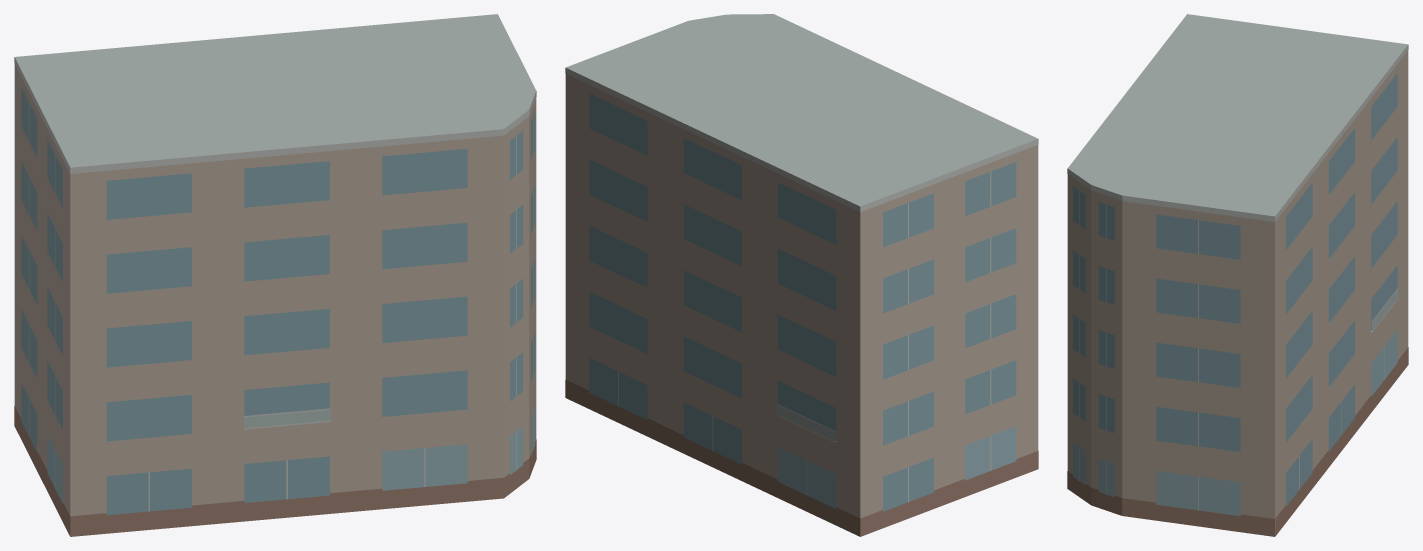
File: survey-upis-32729970.glb
3 renders of one model, left to right at view 1: azimuth 30°, elevation 25°; view 2: azimuth 150°, elevation 25°; view 3: azimuth 270°, elevation 25°, orthographic. The views are drawn at different scales.
Visible parts, largest first — view 1: survey-upis-32729970.tmp; view 2: survey-upis-32729970.tmp; view 3: survey-upis-32729970.tmp.
Part boxes in pixels (x1,y1,x2,y2): survey-upis-32729970.tmp: (14,14,536,536); survey-upis-32729970.tmp: (565,14,1038,536); survey-upis-32729970.tmp: (1067,14,1408,536).
Size of the model in its own units: 19.01 by 14.02 by 13.53.
